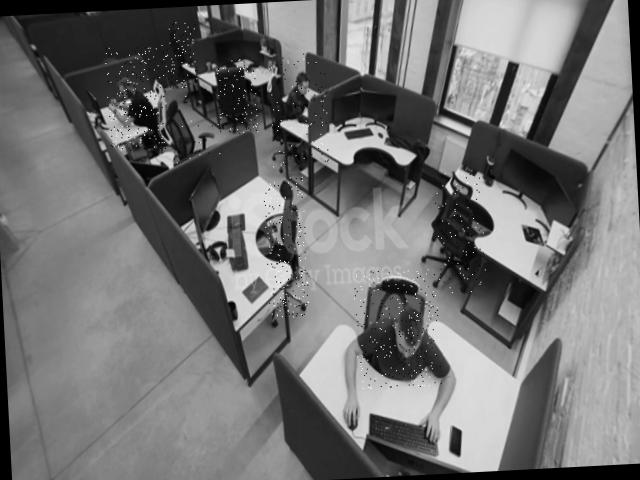empty chair: (262, 177, 310, 320), (433, 168, 487, 294), (164, 87, 222, 164), (214, 58, 258, 136), (168, 21, 200, 104)
occupiedchair: (353, 268, 442, 390), (105, 44, 176, 152), (267, 52, 331, 168)
